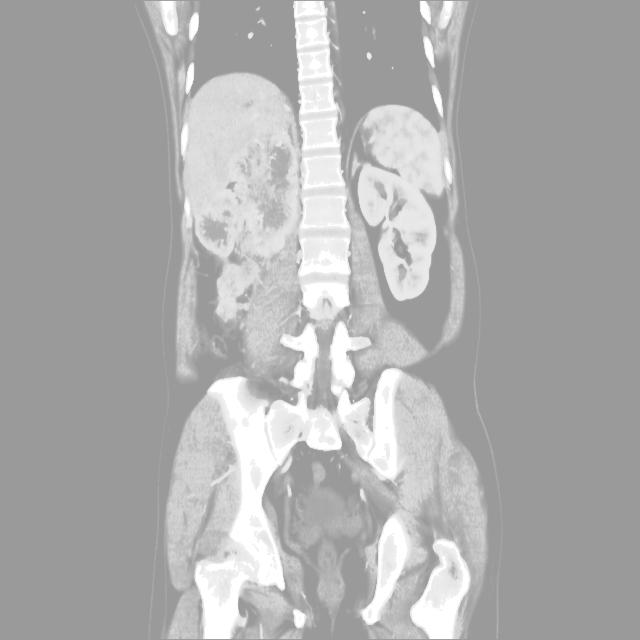TUMOR: (152, 104, 508, 449)
